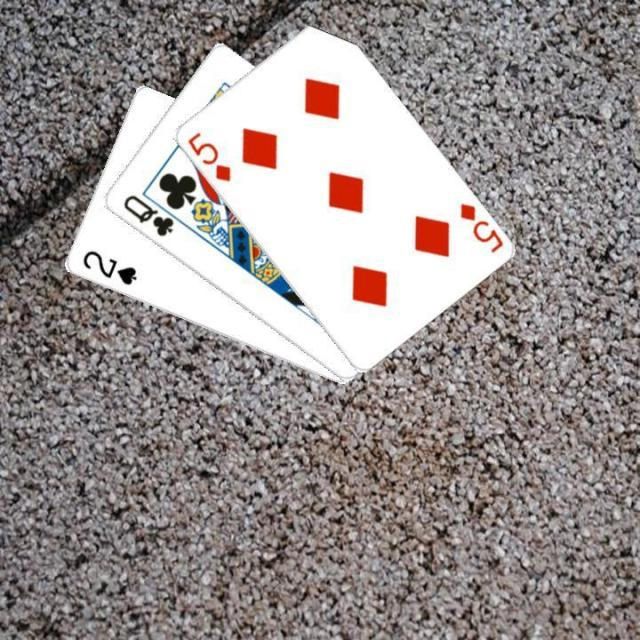2S: (78, 246, 139, 287)
5D: (455, 198, 505, 255), (183, 128, 233, 184)
QC: (118, 190, 176, 239)
